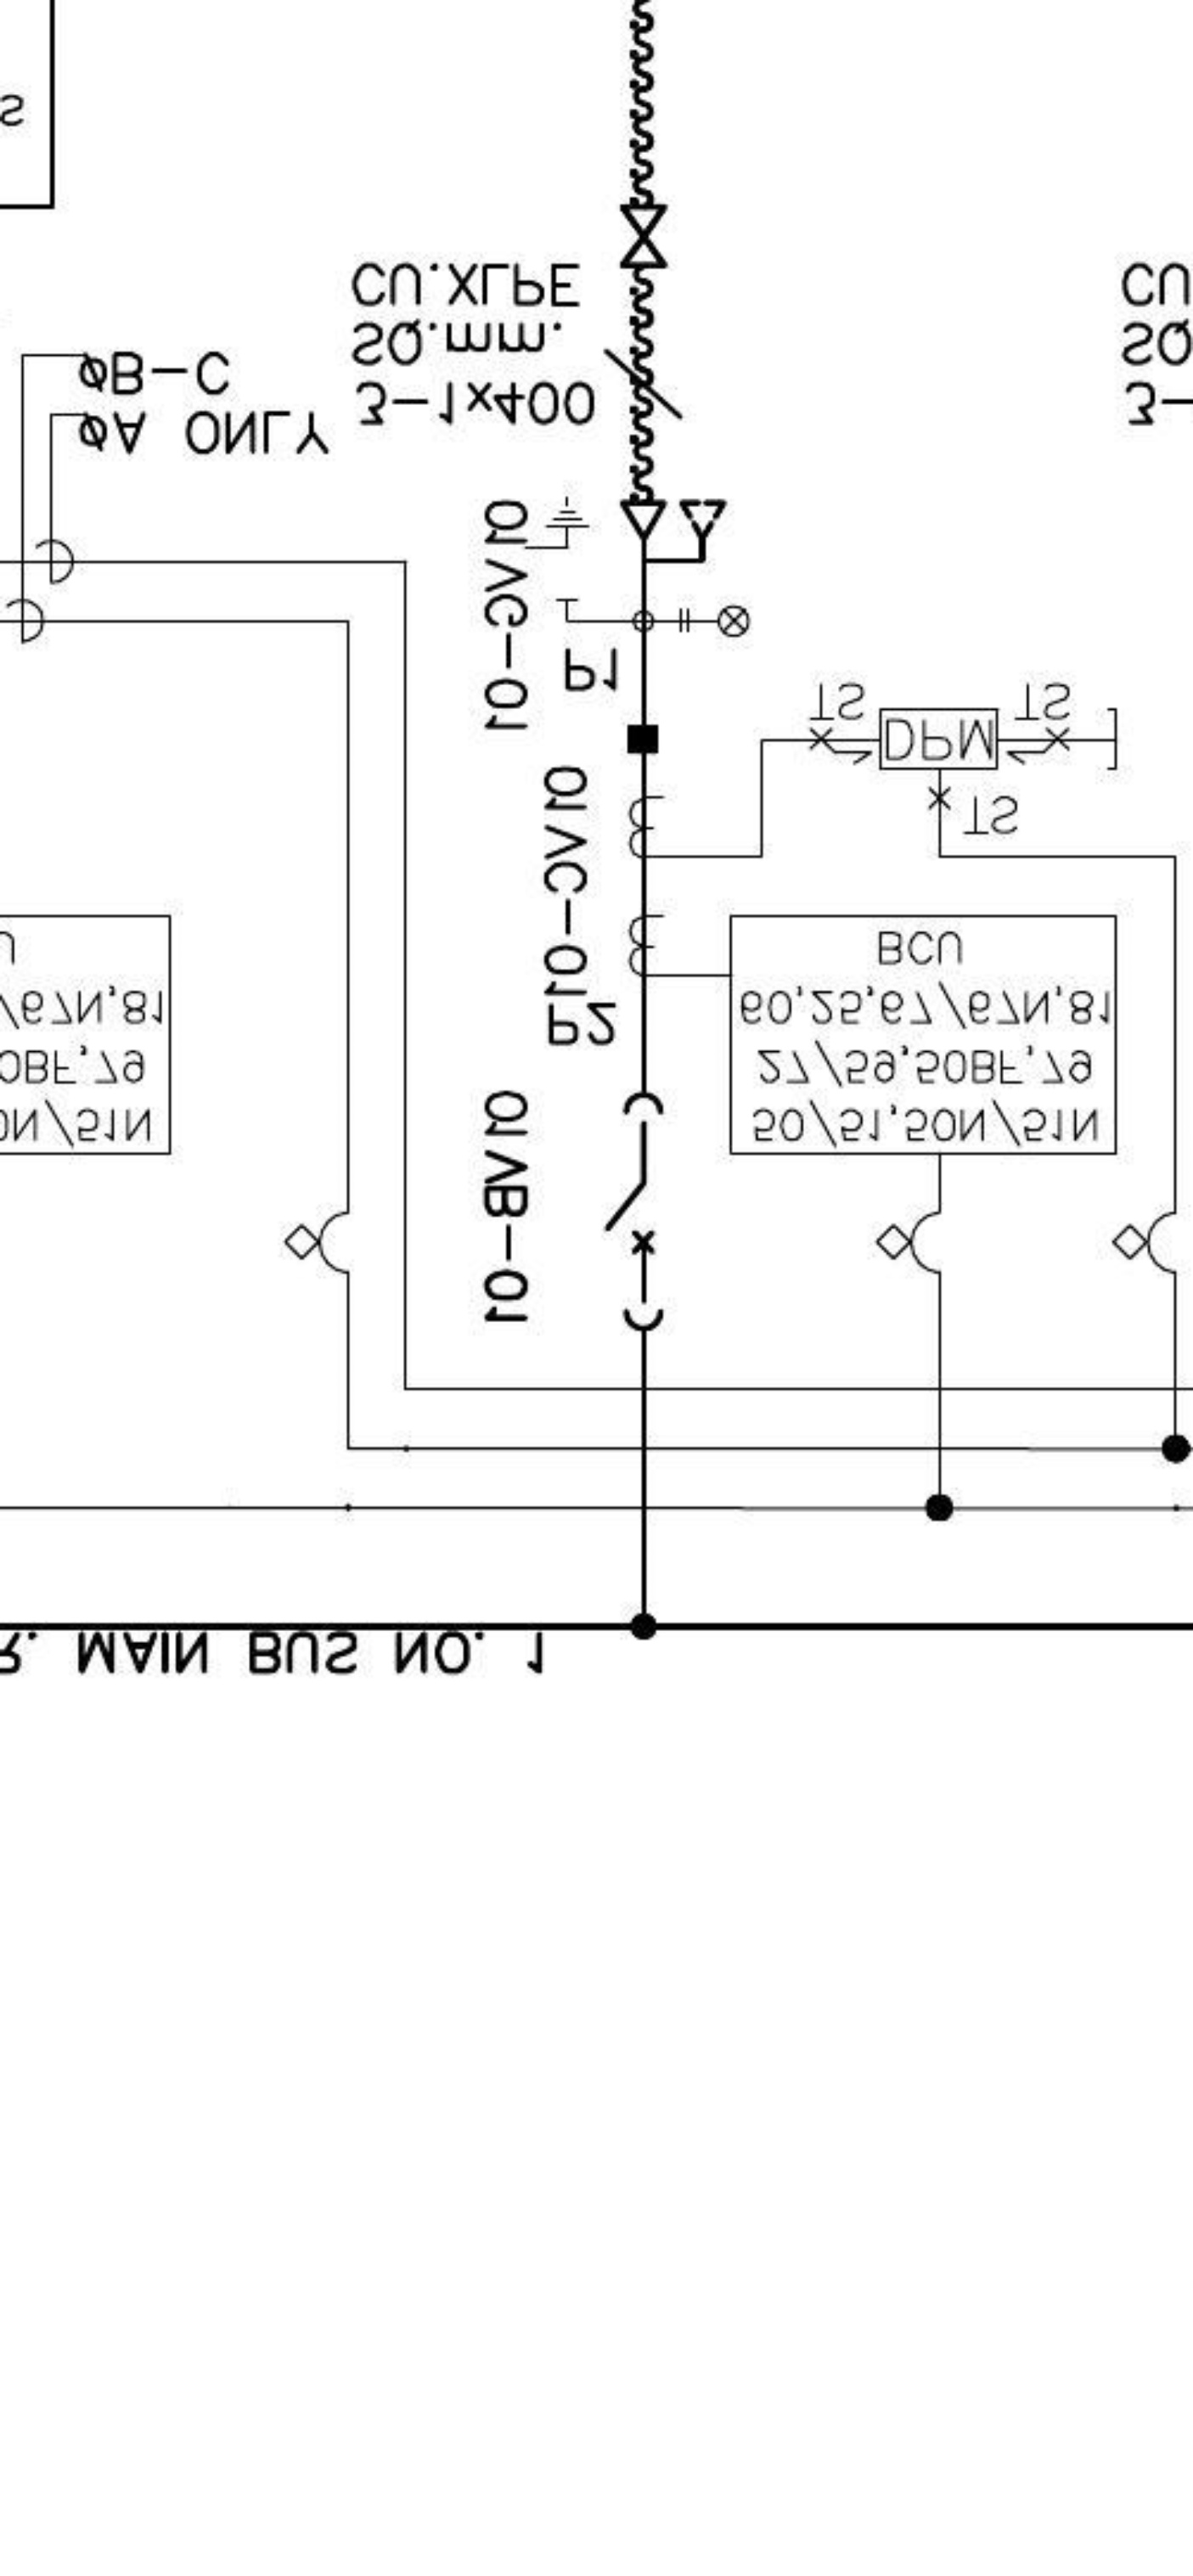22_breaker: (601, 1089, 667, 1332)
22_gs: (523, 496, 593, 605)
22_ll: (677, 603, 751, 639)
DPM: (876, 705, 1002, 772)
terminator_splicing_kits: (618, 204, 669, 269)
terminator_w_future: (616, 498, 728, 567)
